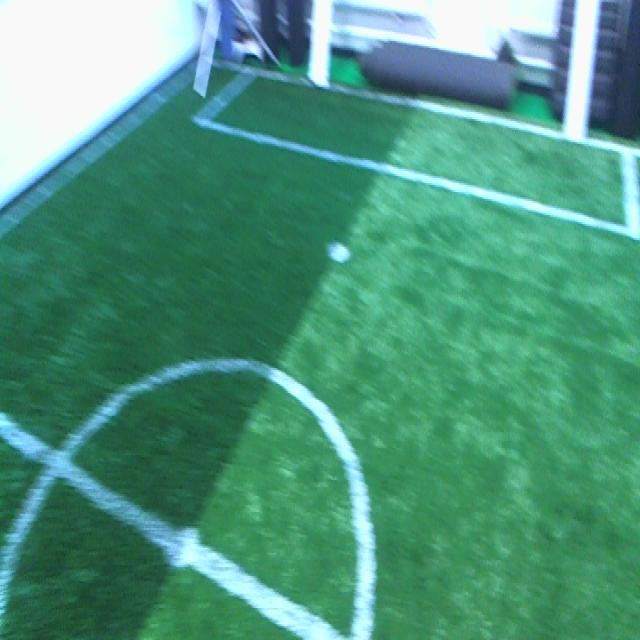goalpost: (576, 14, 599, 105), (315, 7, 328, 85)
